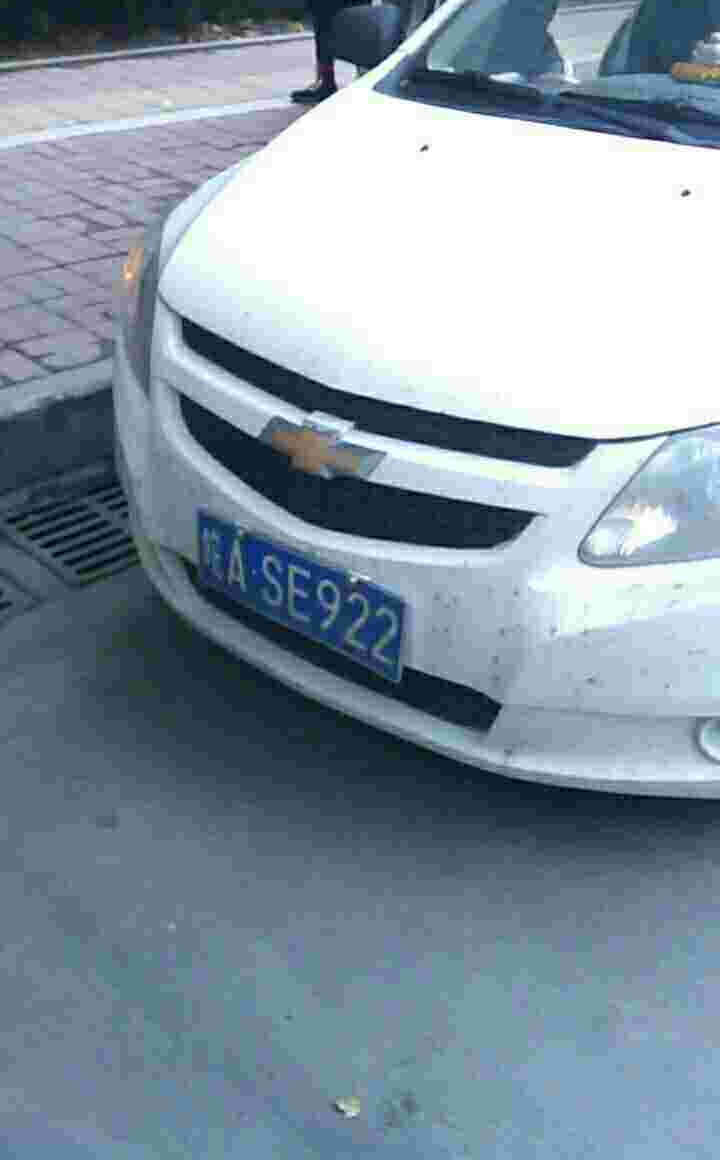license_plate: (192, 516, 415, 675)
